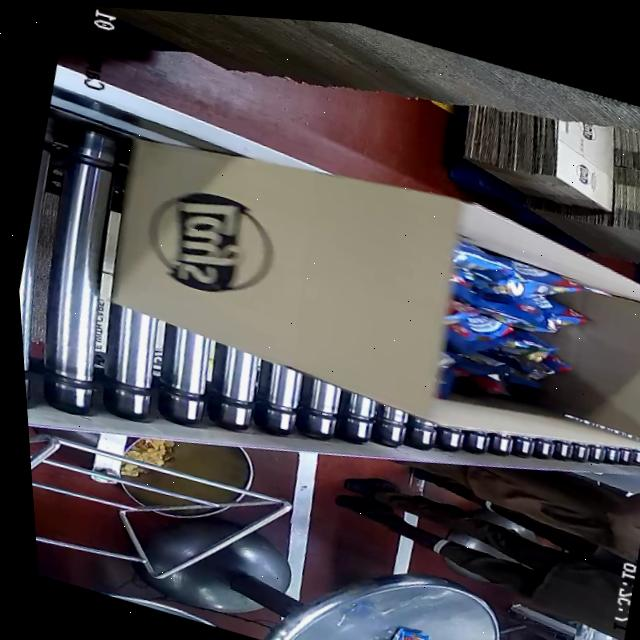PAPRIKA: (410, 227, 592, 410)
